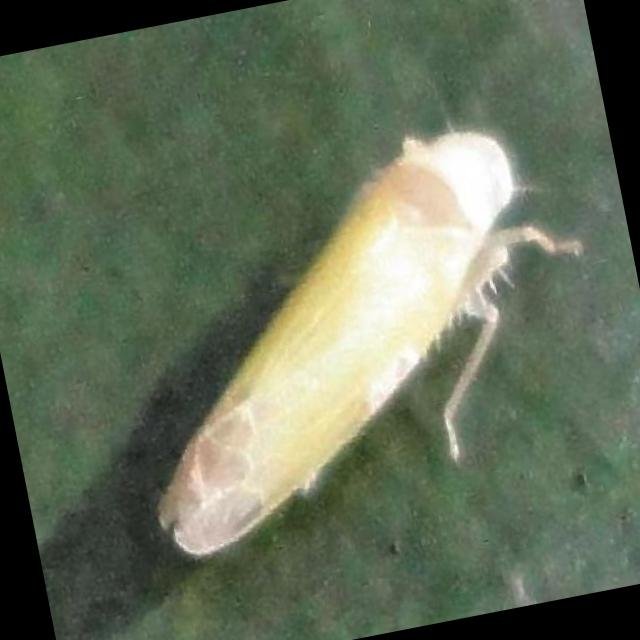green-leafhopper: (102, 100, 616, 566)
